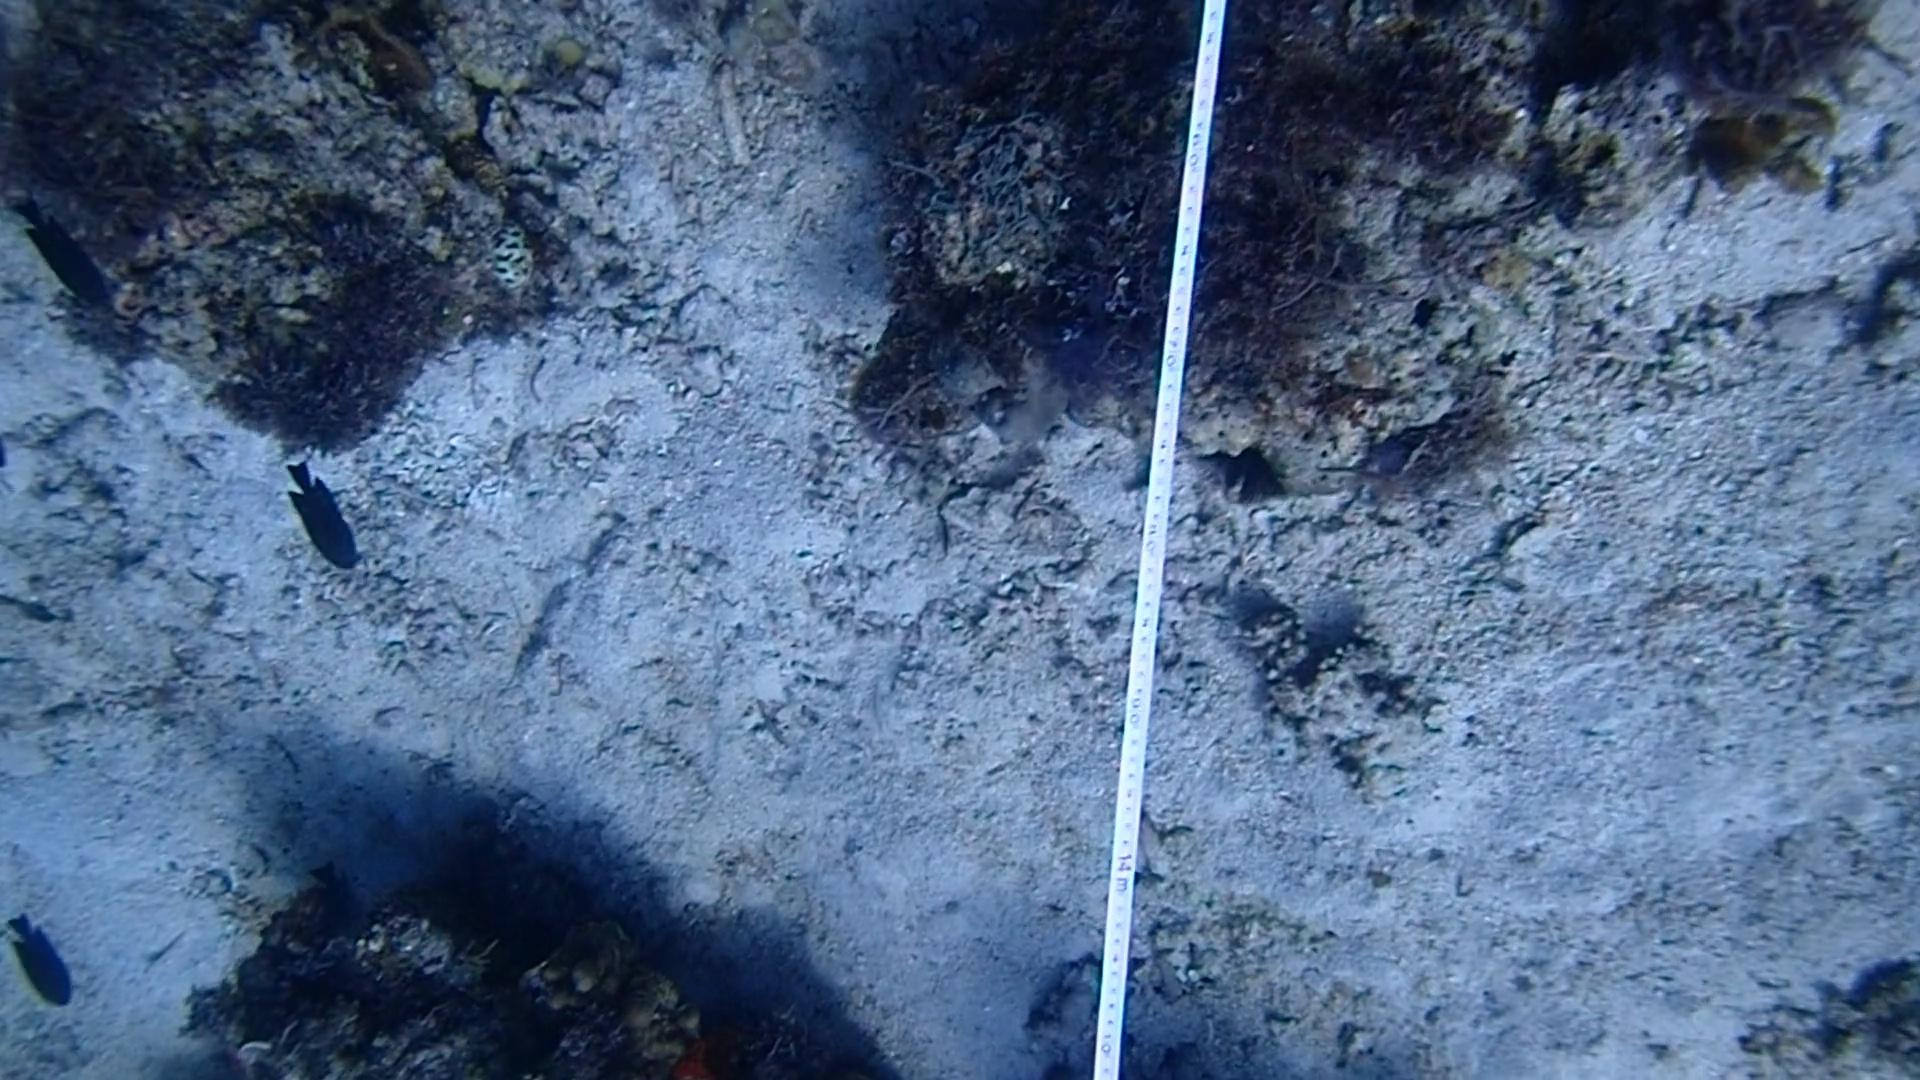Dark Fish: (0, 179, 117, 318), (276, 451, 380, 589), (0, 898, 92, 1021)
